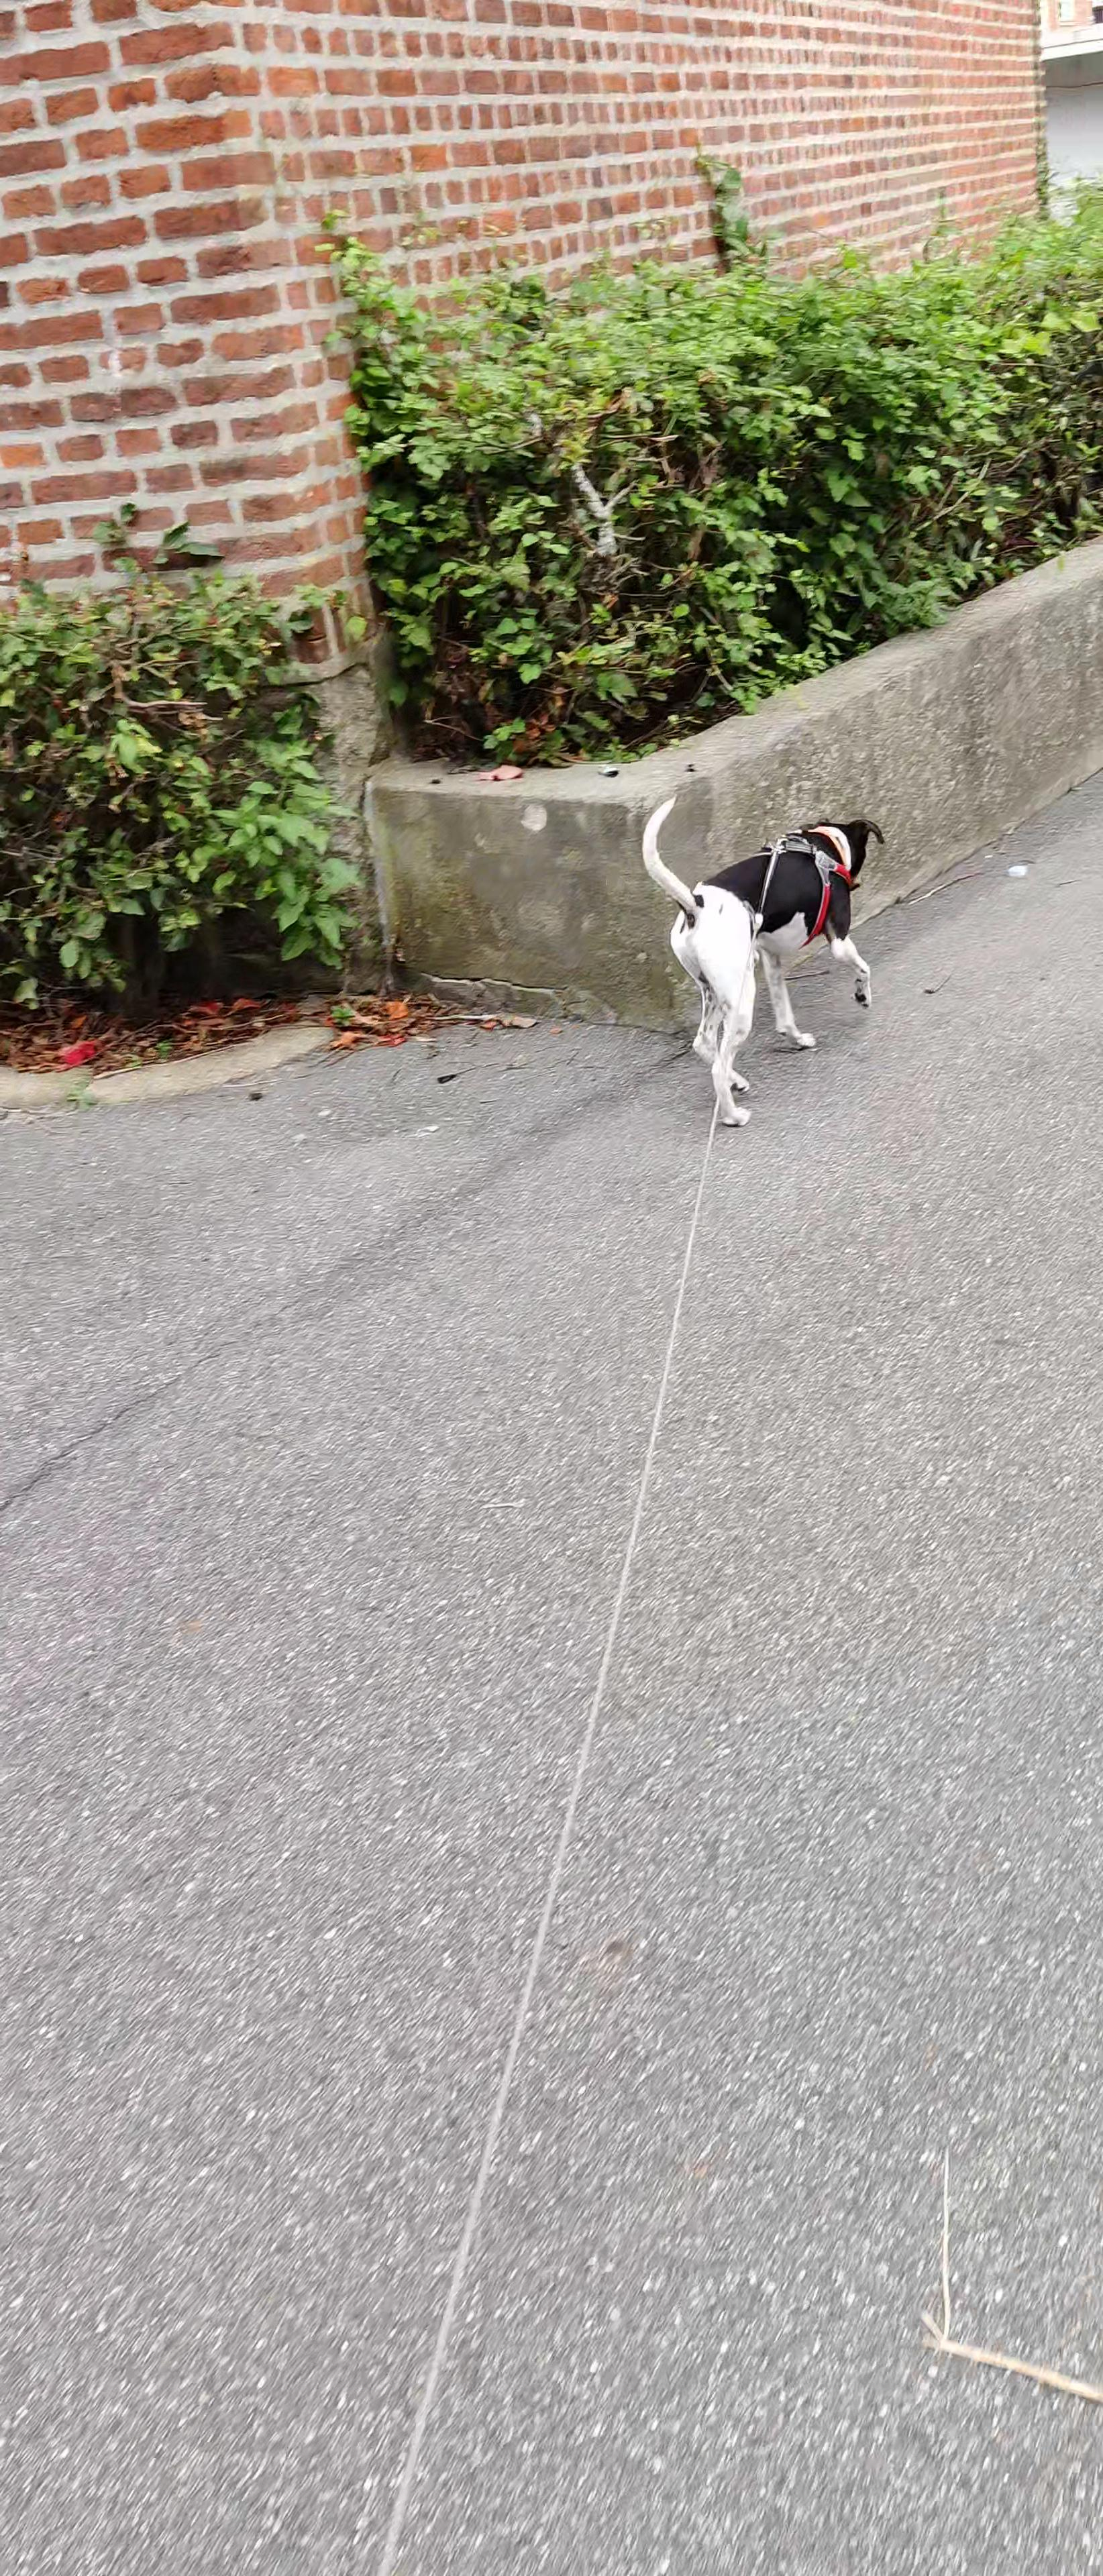Dog: (631, 787, 901, 1132)
